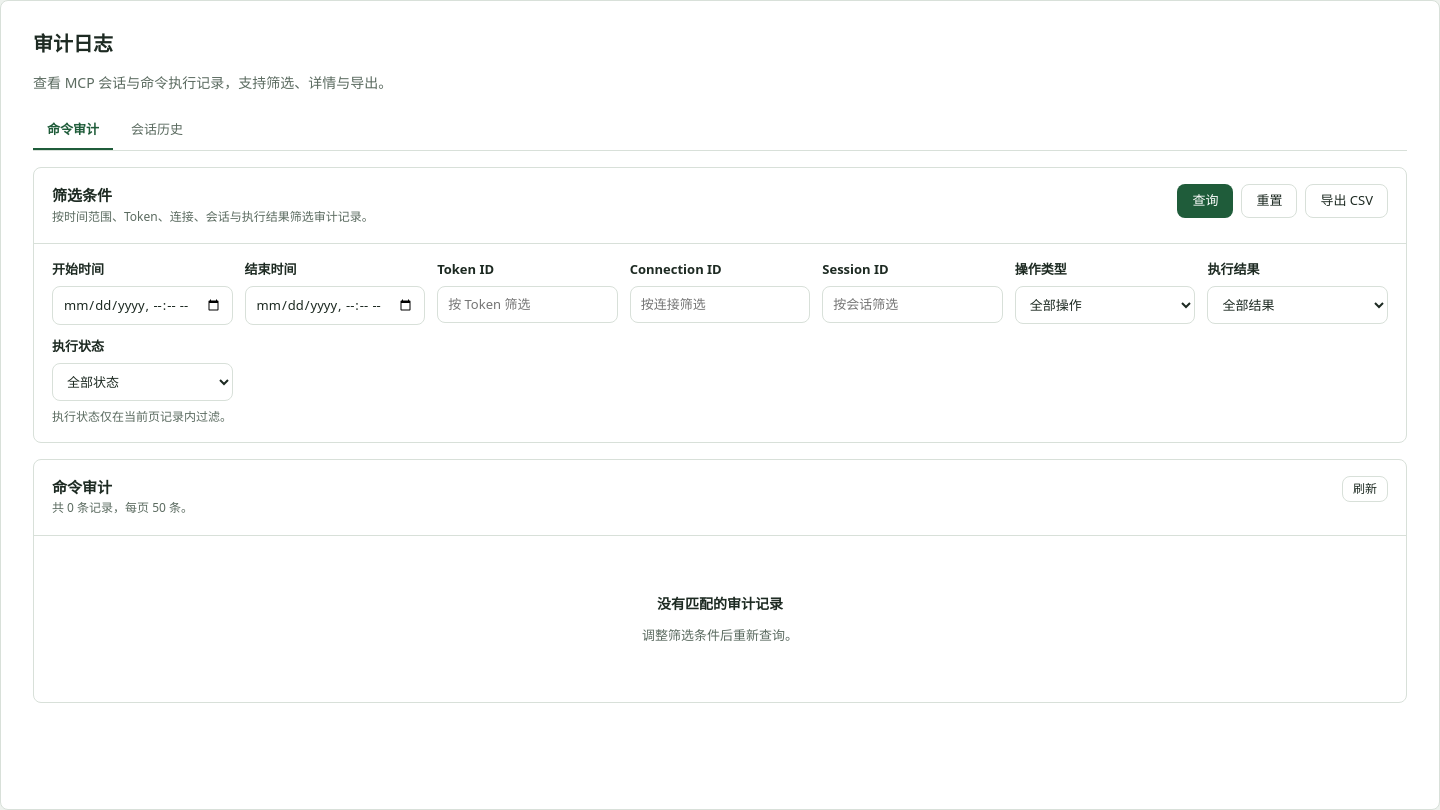
Test case: AuditPage 导出与错误 › 导出成功后展示文件路径与行数
Click the button "导出 CSV" at (1347,201), box [1306,184,1388,218]
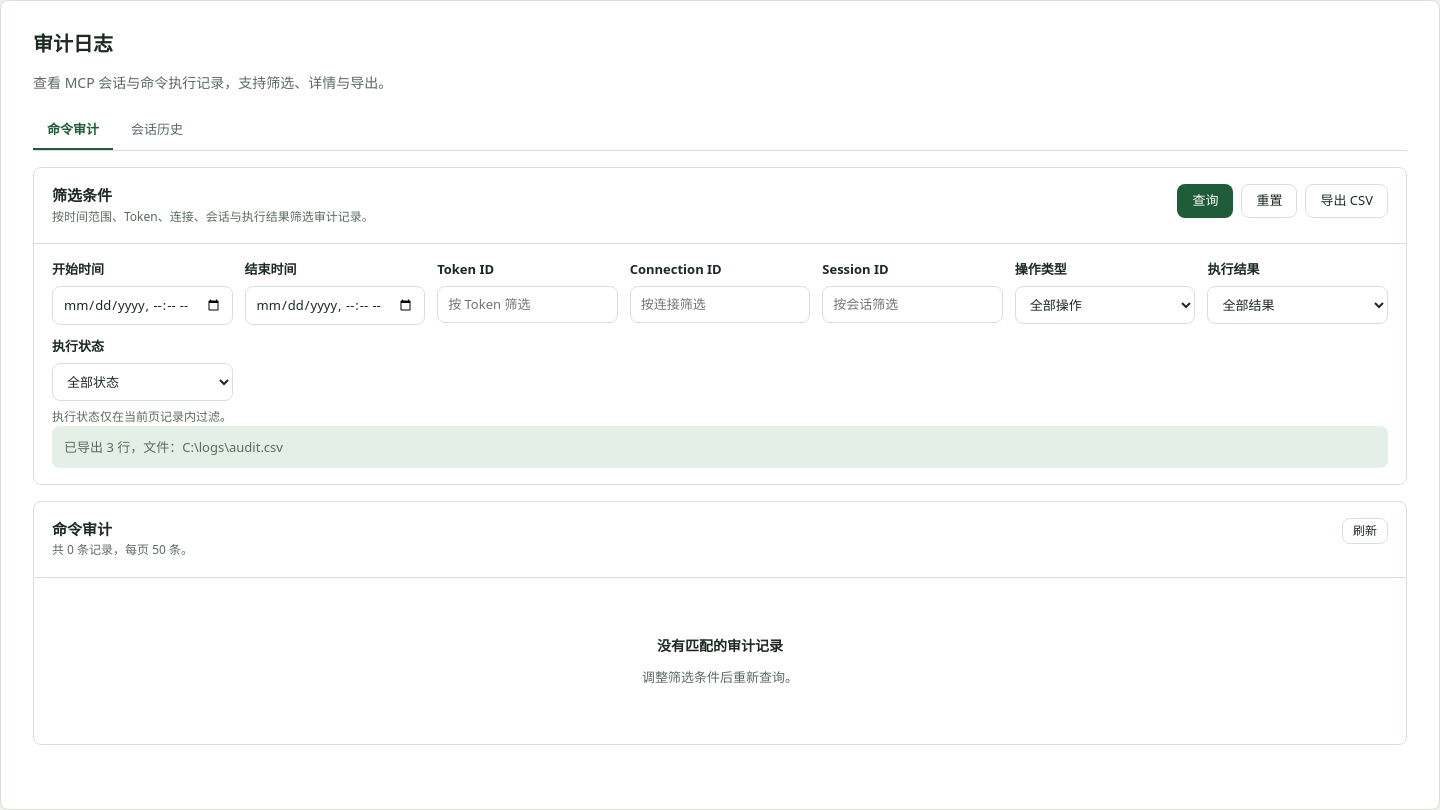
Check: the text "已导出 3 行，文件：C:\\logs\\audit.csv" shows "C:\\logs\\audit.csv", box [64,438,283,456]
